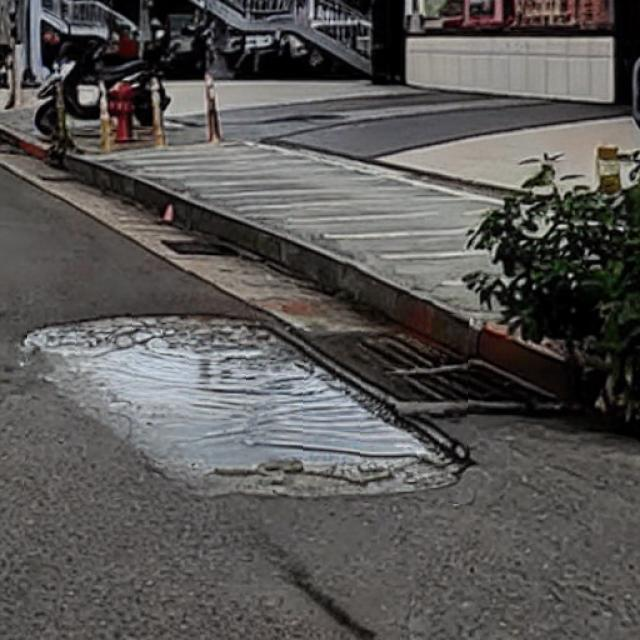puddle: (26, 310, 469, 504)
